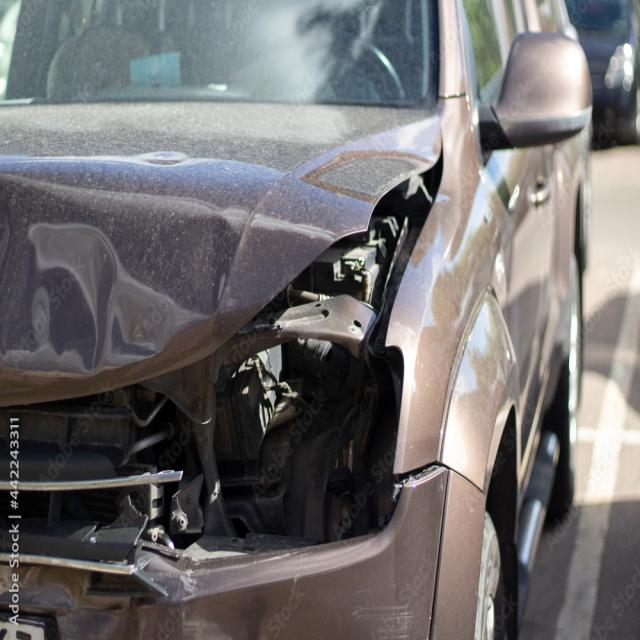Dent: (0, 125, 208, 396)
Head Light: (144, 262, 435, 579)
